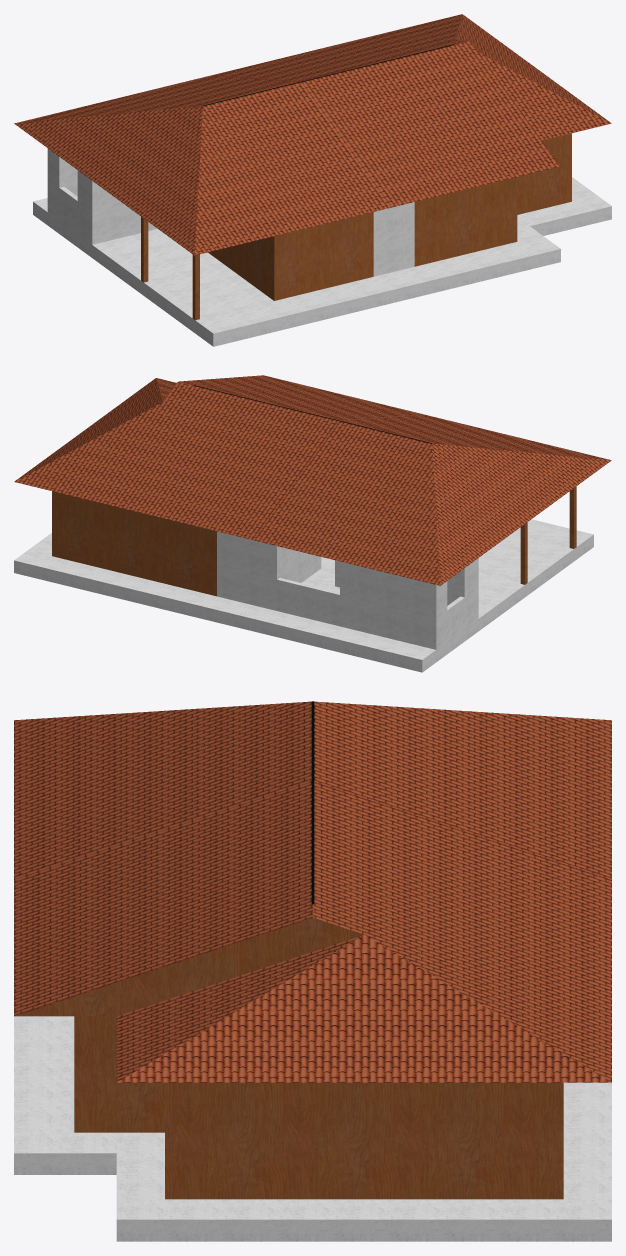
File: telhado_-_3d.glb
The picture shows the model from 3 angles, top to bottom: view 1: azimuth 30°, elevation 25°; view 2: azimuth 150°, elevation 25°; view 3: azimuth 270°, elevation 25°; orthographic projection. The views are drawn at different scales.
Parts seen in each view (by area): view 1: Base___1_2, Group2, Group3, Model; view 2: Base___1_2, Group2, Group3, Model; view 3: Group3, Base___1_2, Group2, Model.
Boxes of the visible parts, bbox=[...] form: Base___1_2: bbox=[33, 133, 611, 346]; Group2: bbox=[14, 75, 391, 255]; Group3: bbox=[212, 14, 611, 207]; Model: bbox=[141, 44, 453, 320]; Base___1_2: bbox=[14, 491, 593, 672]; Group2: bbox=[253, 414, 611, 585]; Group3: bbox=[14, 375, 423, 539]; Model: bbox=[194, 385, 576, 584]; Group3: bbox=[14, 782, 611, 1082]; Base___1_2: bbox=[14, 1016, 611, 1241]; Group2: bbox=[14, 701, 611, 879]; Model: bbox=[311, 701, 314, 904].
Bounding box in the file's own units: 1420 × 470 × 990.
Materials: 6 (4 with a texture image).
